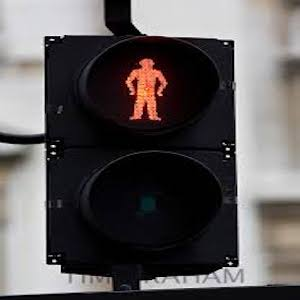red: (119, 56, 170, 117)
